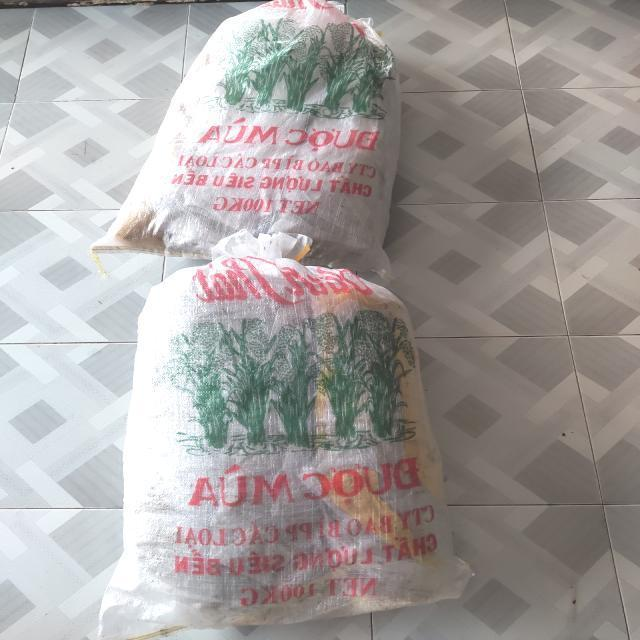gunny_bag: (101, 256, 472, 640), (92, 0, 400, 275)
